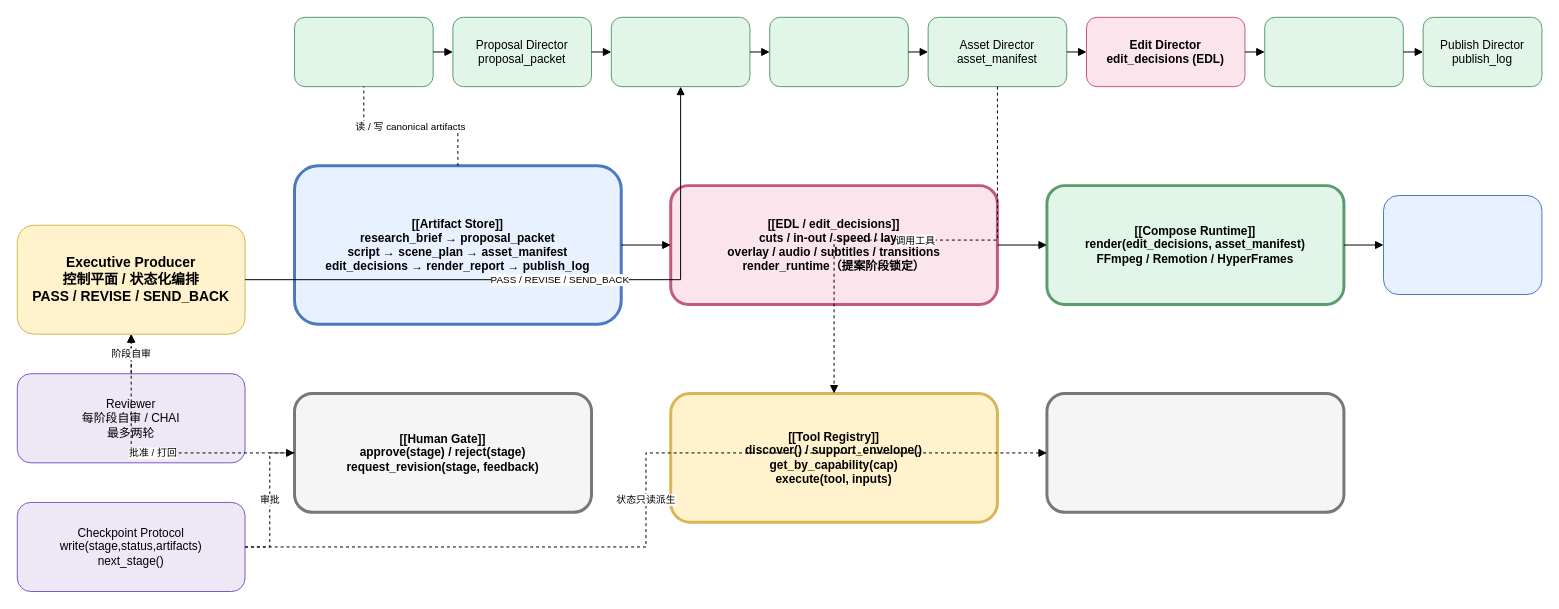
Some shapes in this 1559 by 609 pixel diagram are drawn without their labels. The shapes that lost their labels are listed below. From the top down, each one's centre as x and y in pixels, then its label:
At pixel 363 51: "Research Director research_brief".
At pixel 680 51: "Script Director script".
At pixel 838 51: "Scene Director scene_plan".
At pixel 1333 51: "Compose Director render_report".
At pixel 1462 245: "final.mp4 render_report / final_review".
At pixel 1195 452: "[[Observability]] read(project_state) 只读看板，不编排".
